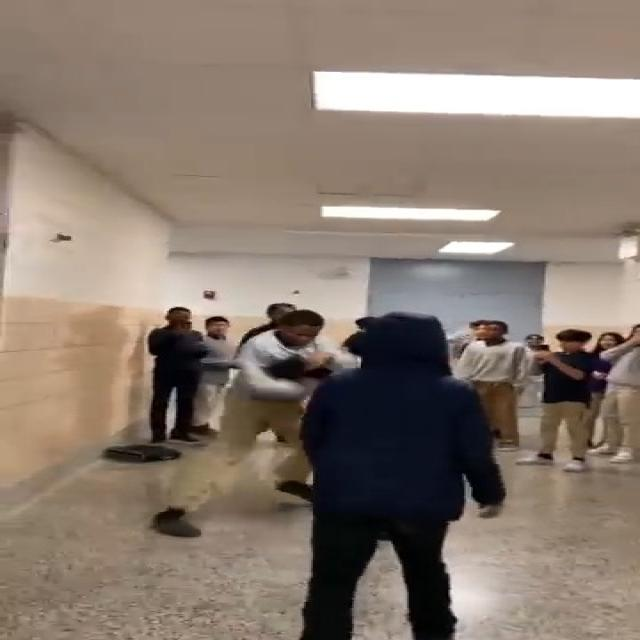fight: (214, 308, 339, 522)
